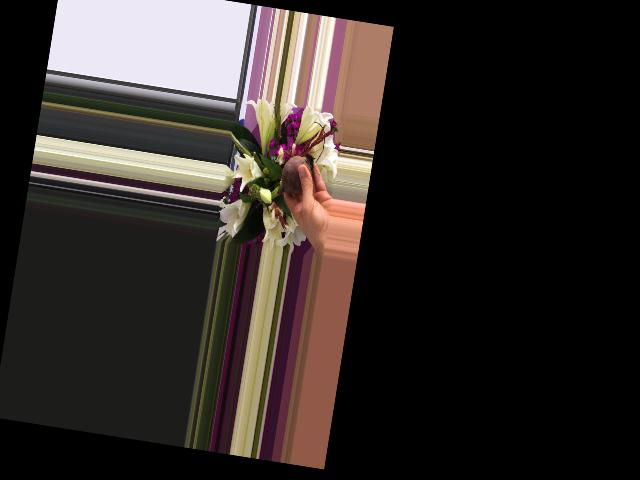beet: (270, 148, 315, 206)
